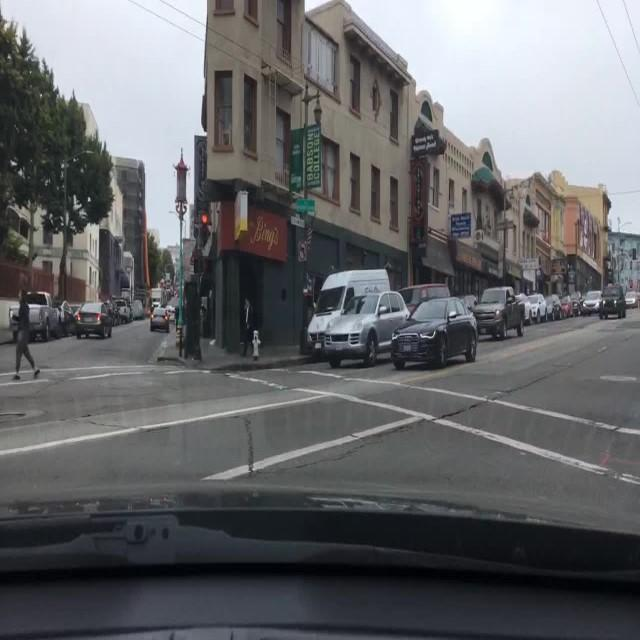normal: (307, 291, 410, 370), (390, 297, 480, 372), (472, 288, 528, 342), (74, 301, 113, 339), (584, 286, 626, 318), (525, 295, 548, 323), (148, 305, 171, 331), (581, 291, 603, 315), (563, 294, 583, 317), (548, 295, 565, 321), (112, 300, 131, 323), (625, 290, 639, 306)
